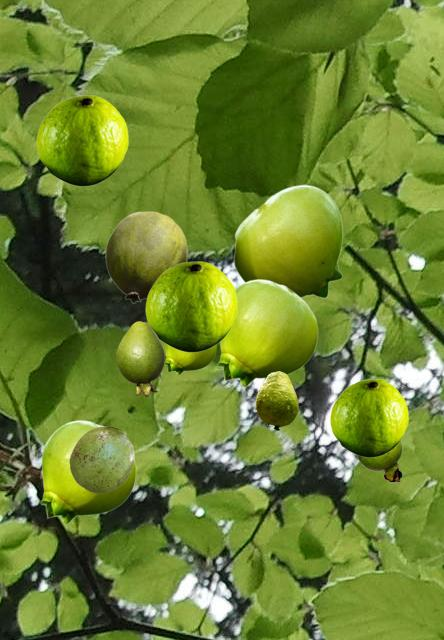guava: (233, 184, 342, 298), (217, 279, 317, 386), (40, 420, 135, 523), (36, 95, 127, 185), (145, 261, 236, 351), (105, 211, 187, 302), (330, 379, 407, 456), (69, 426, 133, 492), (116, 321, 163, 395), (255, 371, 297, 429), (356, 441, 401, 480), (164, 344, 215, 374)
